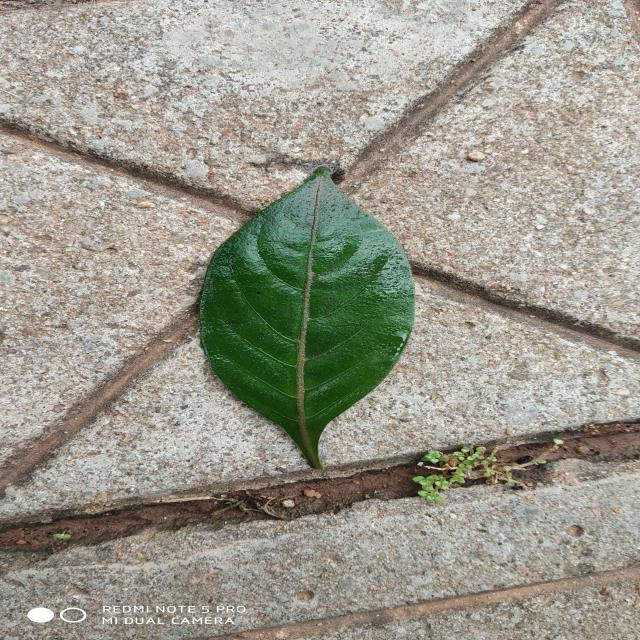ganike: (200, 169, 416, 469)
